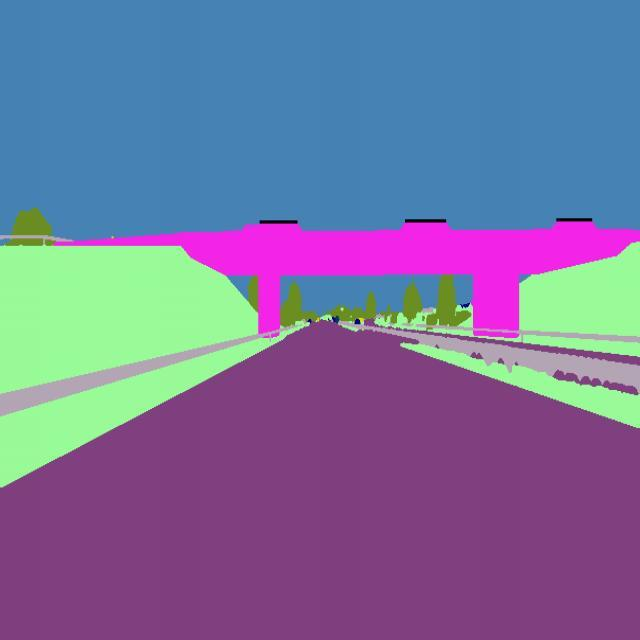safe: (330, 312, 343, 328), (354, 317, 361, 330)
